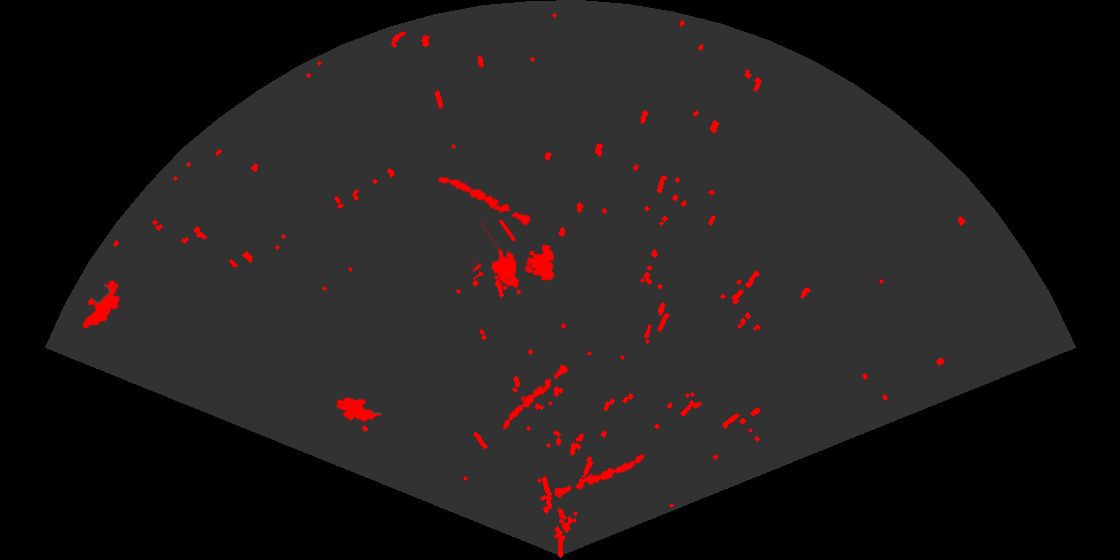AUV: (81, 278, 122, 330), (335, 396, 383, 423)
cage: (473, 220, 556, 296)
chain: (501, 358, 575, 431), (436, 175, 532, 227), (552, 453, 646, 499)
